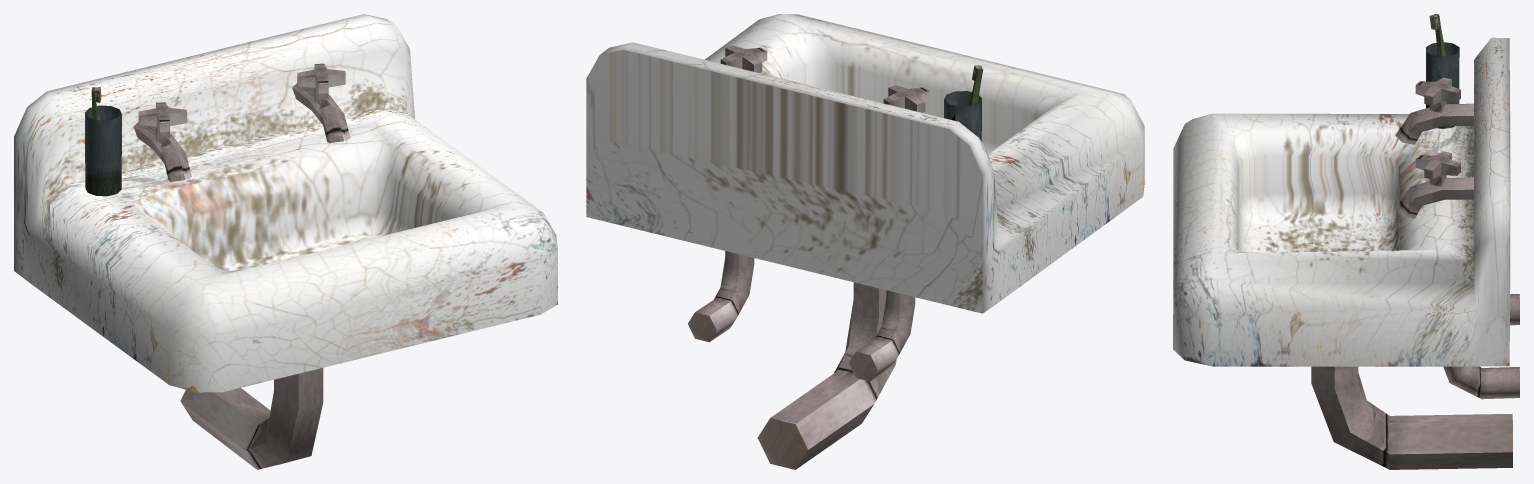
File: Lavamanos.FBX
3 renders of one model, left to right at view 1: azimuth 30°, elevation 25°; view 2: azimuth 150°, elevation 25°; view 3: azimuth 270°, elevation 25°, orthographic. The views are drawn at different scales.
Parts seen in each view (by area): view 1: Lavamanos, Cylinder035; view 2: Lavamanos, Cylinder035; view 3: Lavamanos, Cylinder035, Cepillo.
Part boxes in pixels (bbox=[...]): Lavamanos: bbox=[14, 14, 557, 469]; Cylinder035: bbox=[85, 105, 121, 196]; Lavamanos: bbox=[586, 14, 1144, 469]; Cylinder035: bbox=[944, 91, 981, 141]; Lavamanos: bbox=[1173, 37, 1519, 469]; Cylinder035: bbox=[1426, 42, 1459, 128]; Cepillo: bbox=[1429, 14, 1445, 56].
Bounding box in the file's own units: 28.28 × 27.81 × 22.99.
